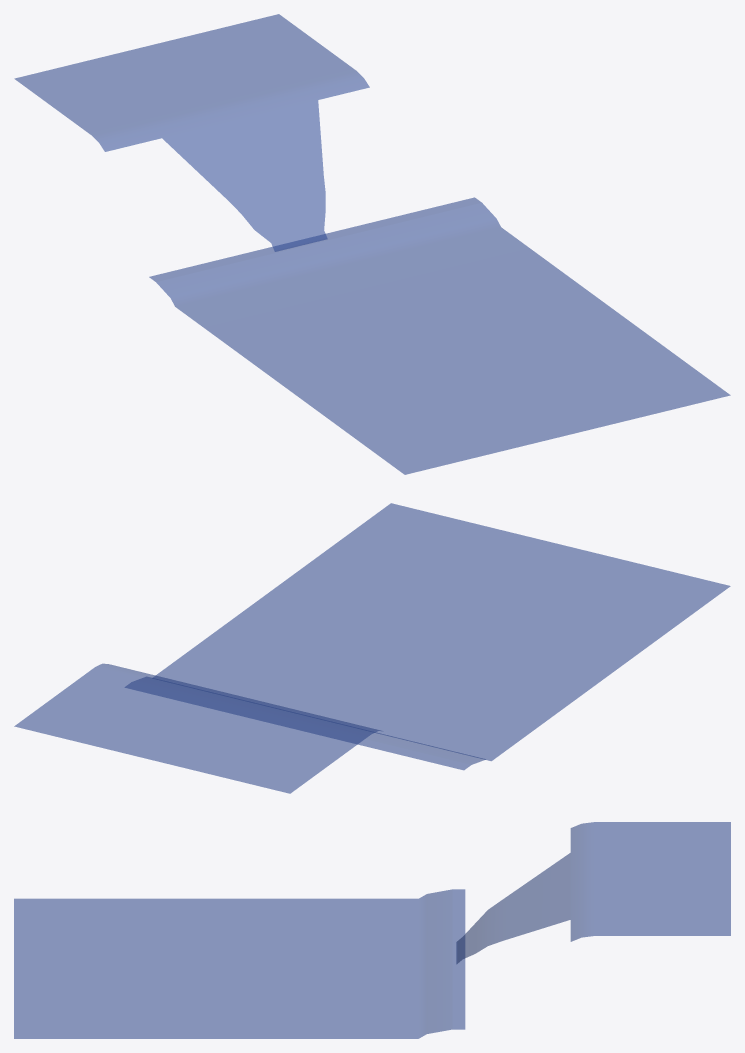
The model's file is dierdao_shui.glb.
The picture shows the model from 3 angles, top to bottom: view 1: azimuth 30°, elevation 25°; view 2: azimuth 150°, elevation 25°; view 3: azimuth 270°, elevation 25°; orthographic projection. The views are drawn at different scales.
Parts seen in each view (by area): view 1: polySurface28, polySurface27; view 2: polySurface28, polySurface27; view 3: polySurface28, polySurface27.
Part boxes in pixels (left/top/right/bottom): polySurface28: left=149, top=197, right=730, bottom=474; polySurface27: left=14, top=14, right=369, bottom=251; polySurface28: left=125, top=503, right=730, bottom=770; polySurface27: left=14, top=663, right=382, bottom=793; polySurface28: left=14, top=889, right=465, bottom=1038; polySurface27: left=456, top=822, right=730, bottom=963.
Bounding box in the file's own units: 10.64 × 2.95 × 22.98.
